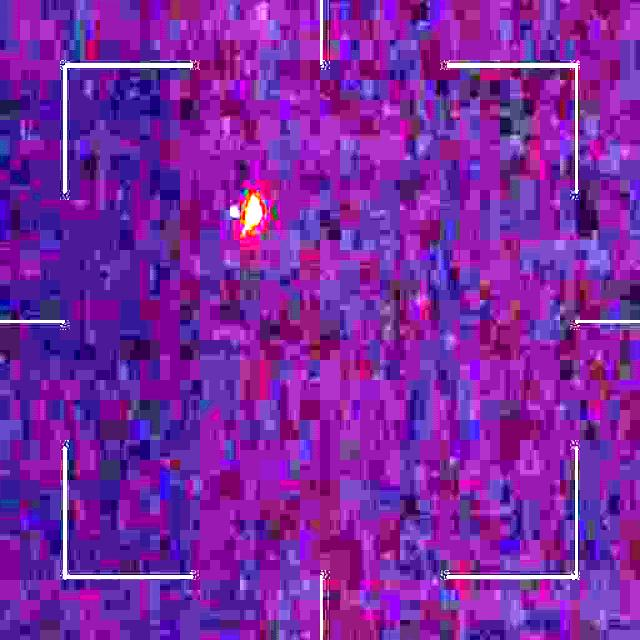bird: (234, 192, 262, 241)
